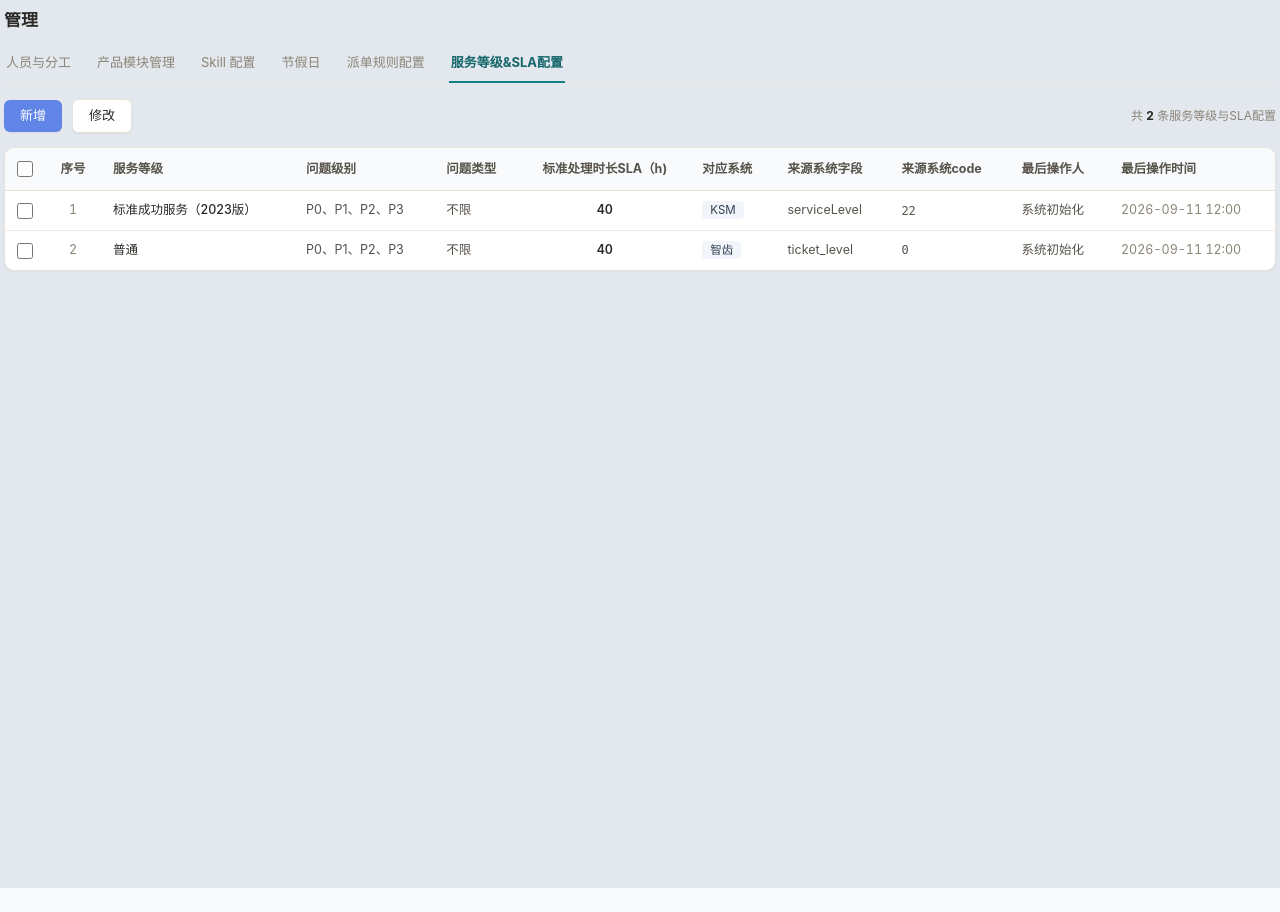
Test: SlaConfigPage › shows toast warning when clicking edit with multiple records selected
Expected: the text "标准成功服务（2023版）" is shown, top-left (101, 191), bottom-right (294, 231)
Click the checkbox named "全选". click: (25, 169)
box: top-left (17, 161), bottom-right (33, 177)
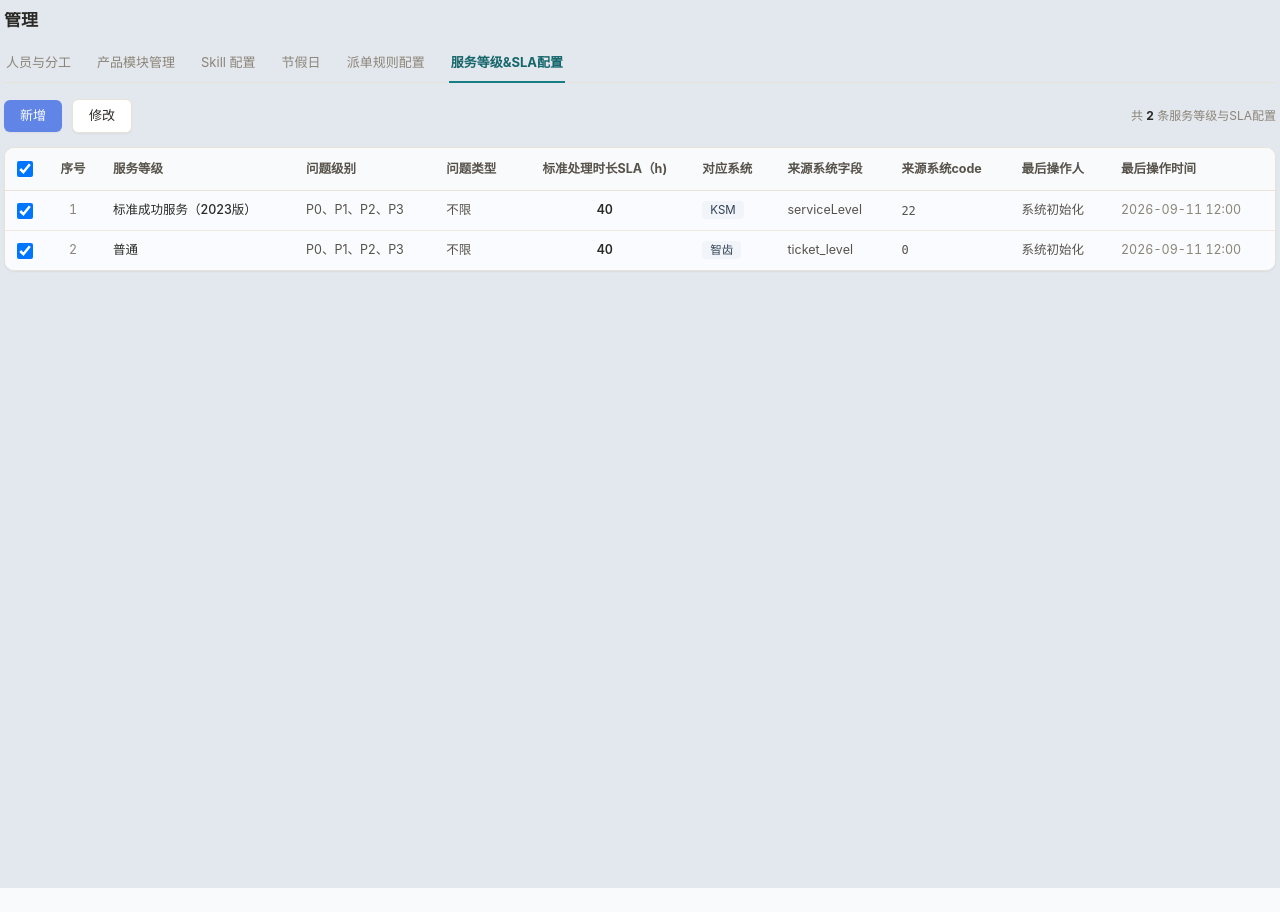
Click the button "修改". click: (102, 116)
box: top-left (72, 99), bottom-right (132, 132)
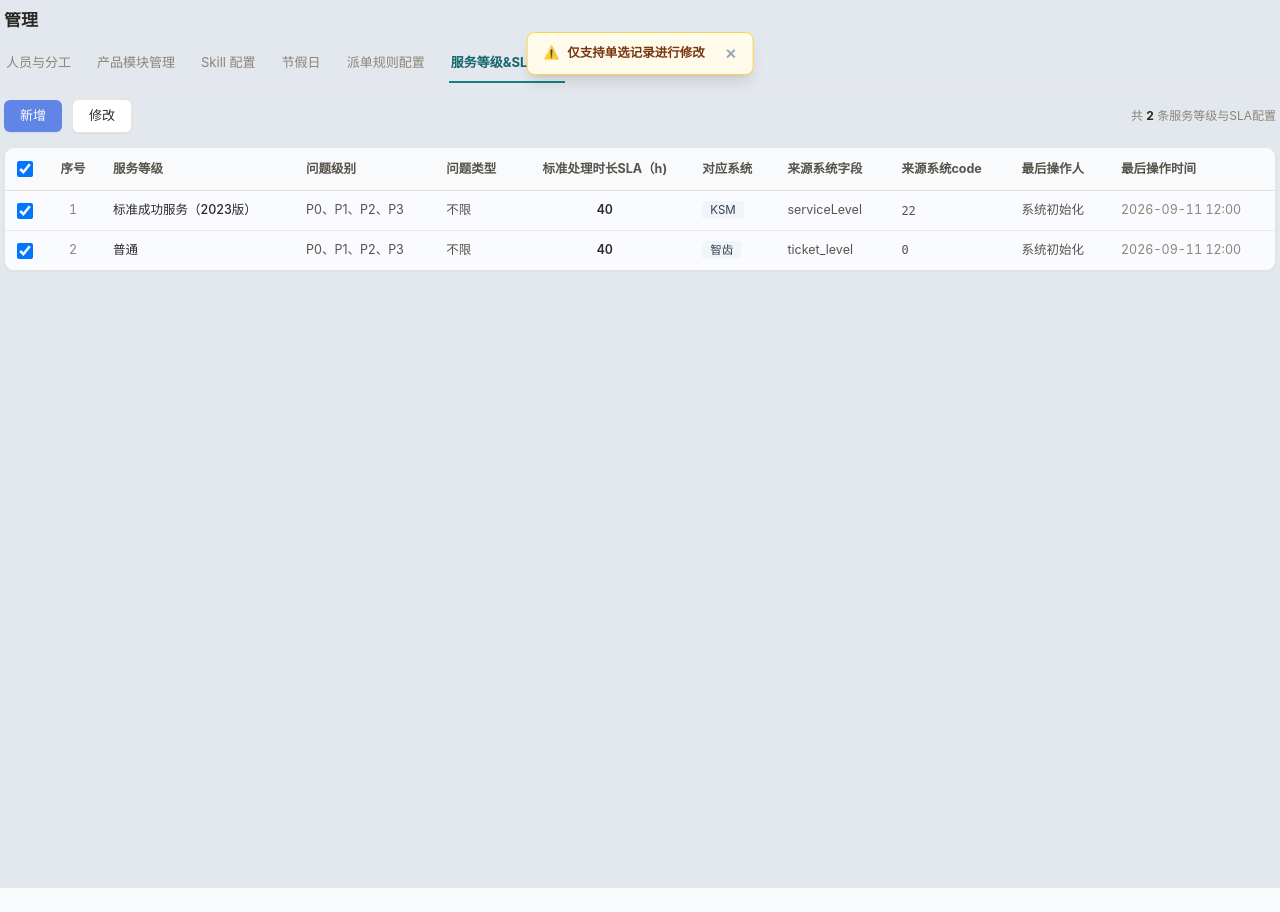
Now the text "仅支持单选记录进行修改" is shown, box top-left (567, 44), bottom-right (705, 63)
